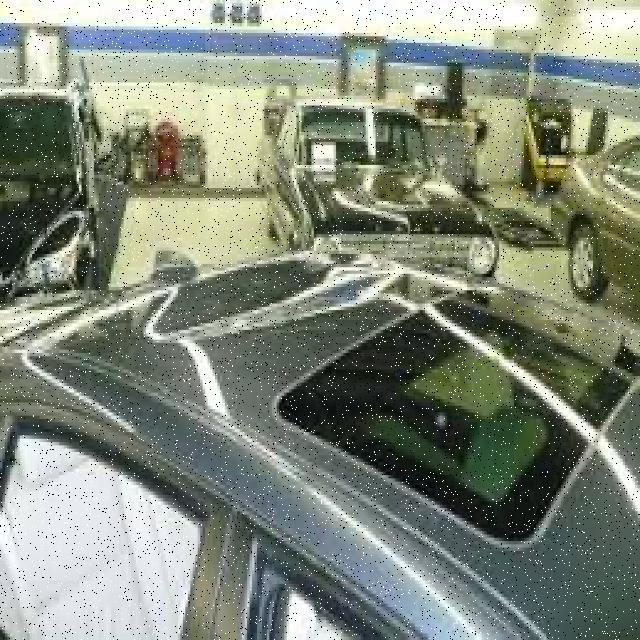roof-dent: (45, 248, 465, 449)
